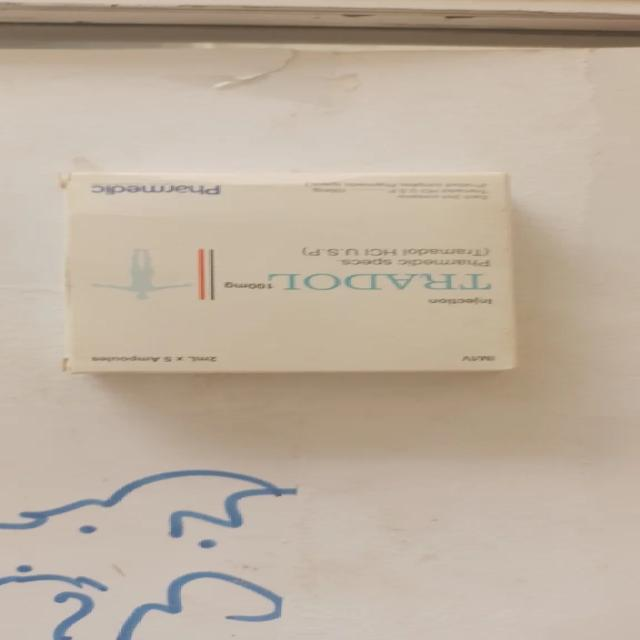drug-name: (264, 270, 494, 294)
